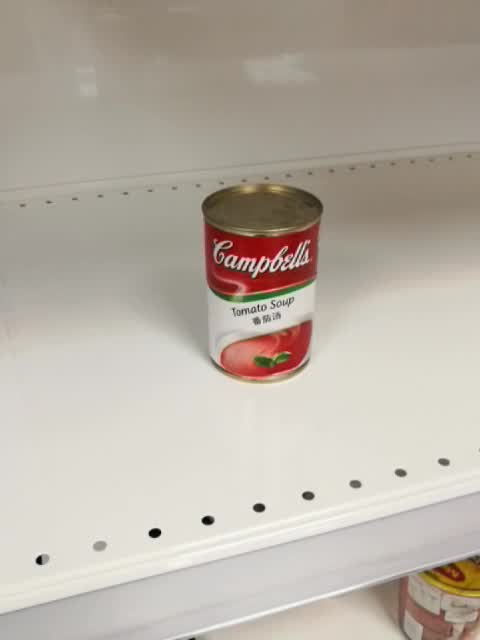tomatosoup: (199, 182, 324, 385)
